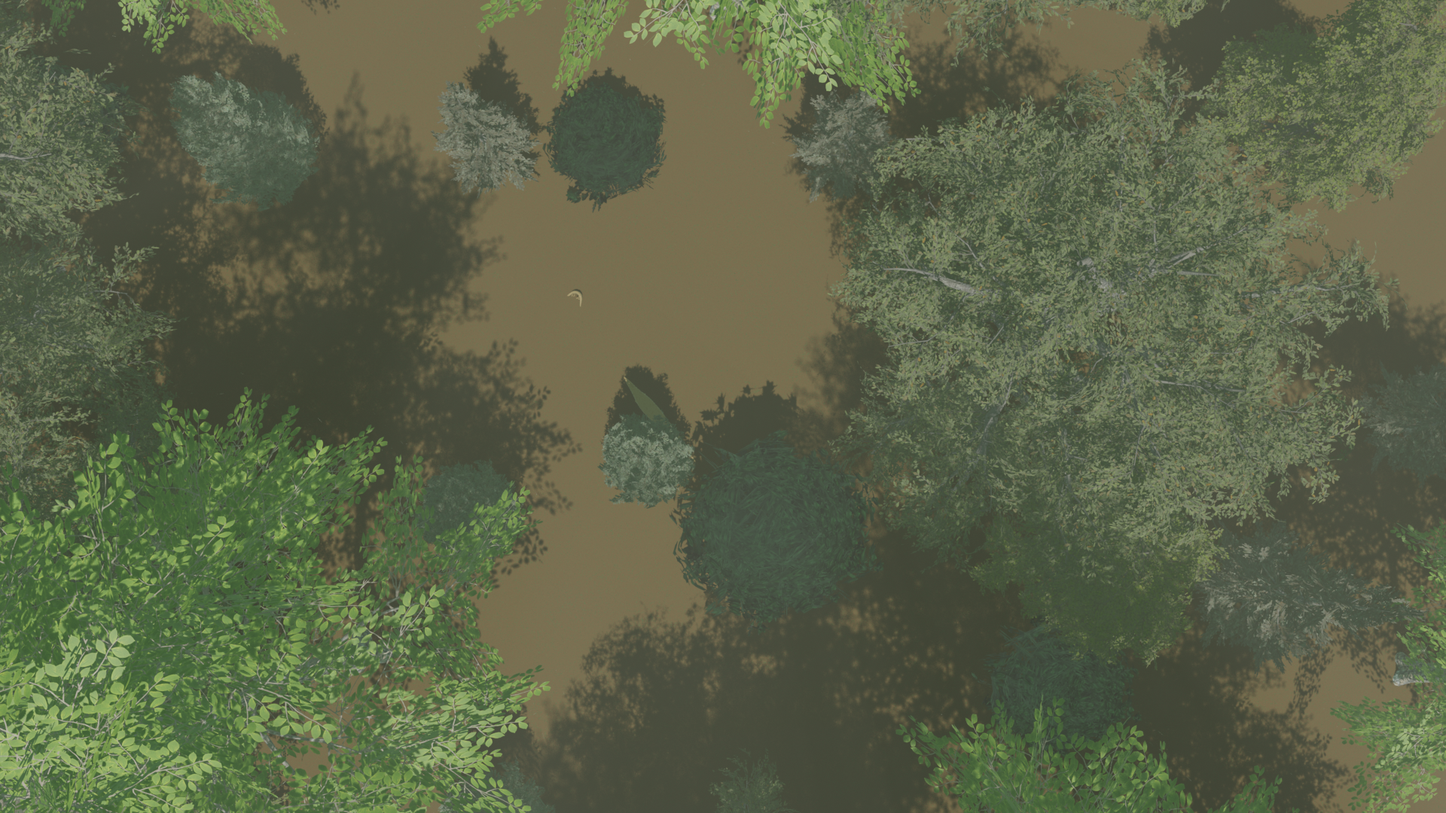pangolin: (619, 371, 699, 469), (558, 289, 584, 311)
